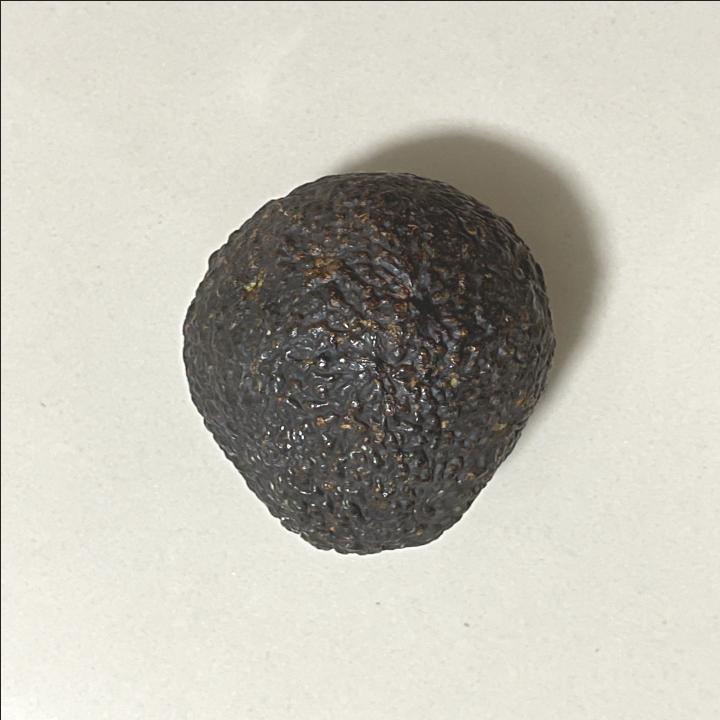Level2: (172, 164, 563, 564)
